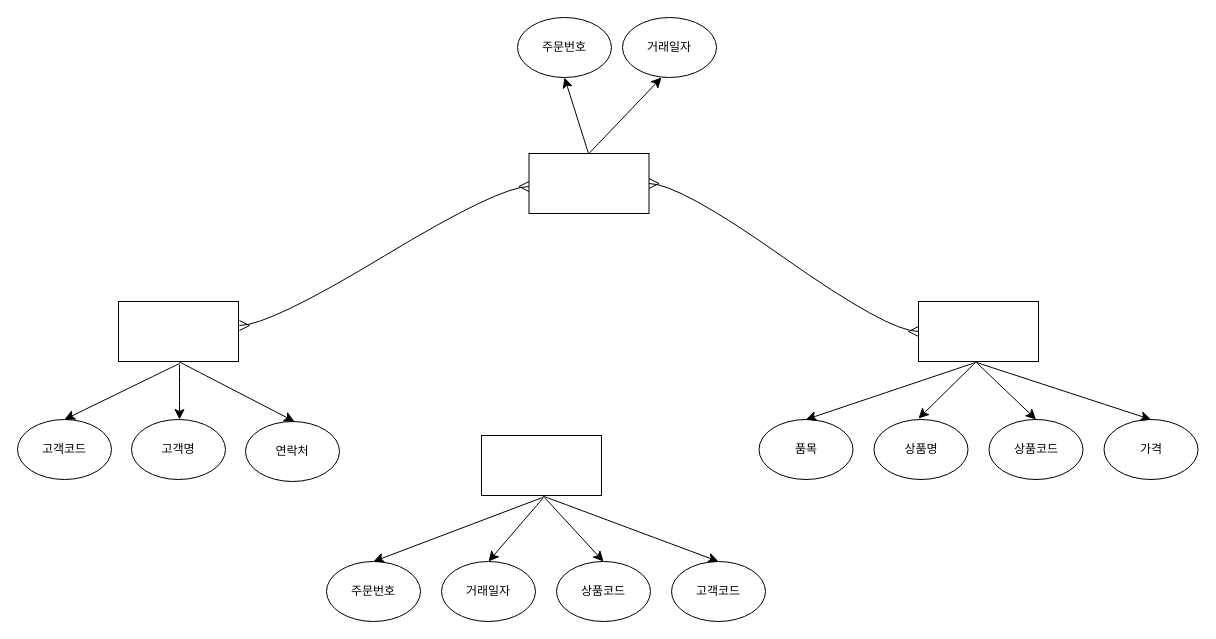
The diagram is 1216 pixels wide and 639 high, and some of its shapes have lost their labels. The centre of each missing label's shape, as x and y in pixels:
"고객정보" goes at point (178, 331).
"상품정보" goes at point (978, 331).
"주문내역" goes at point (588, 183).
"주문원장" goes at point (541, 465).
